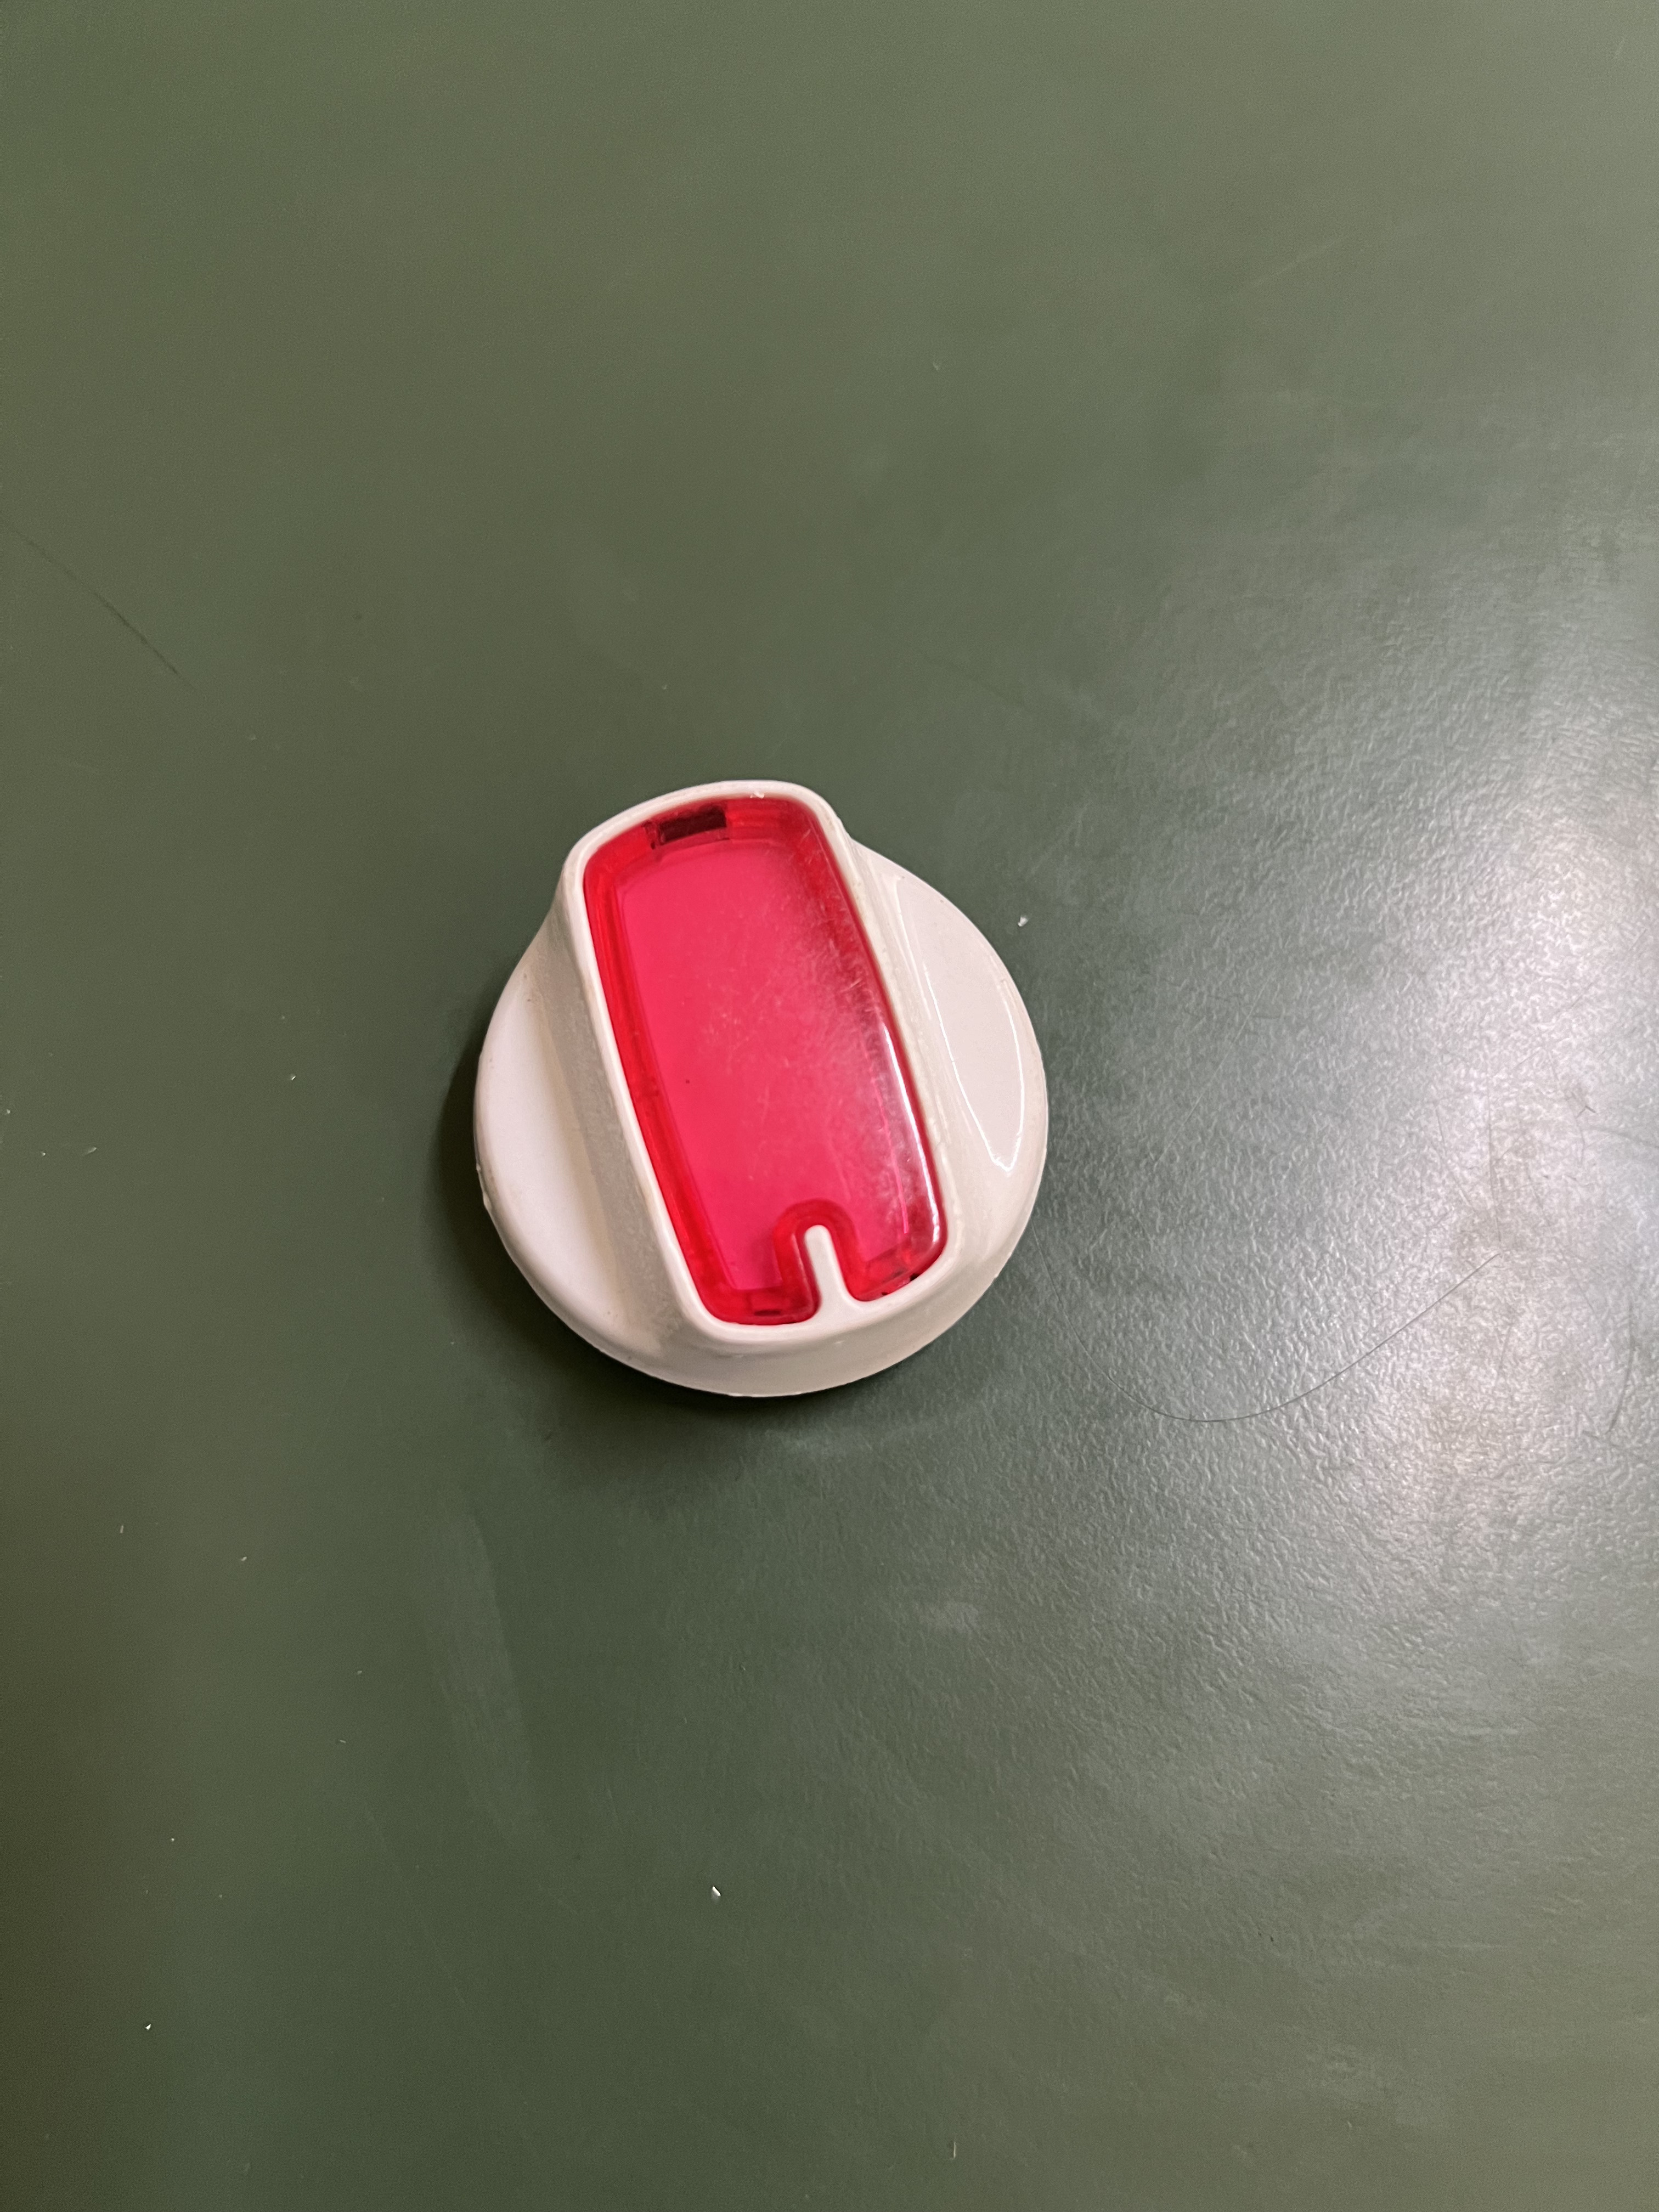regulator: (471, 765, 1060, 1392)
